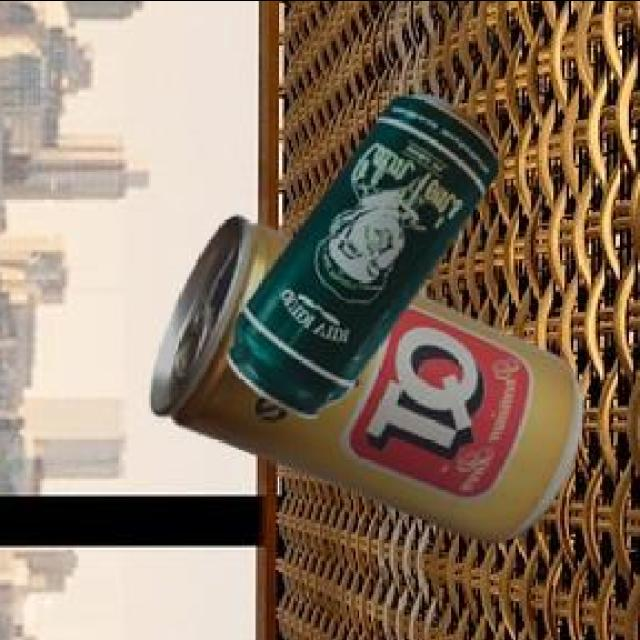logam: (154, 219, 586, 546), (230, 97, 501, 421)
